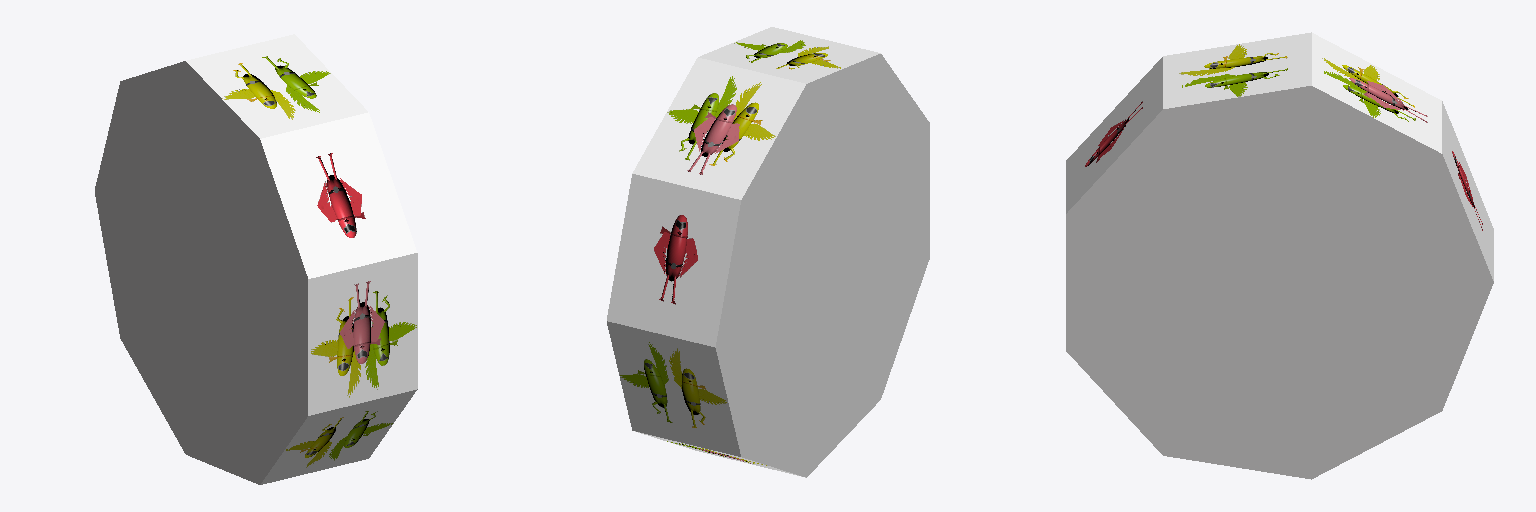
The picture shows the model from 3 angles: view 1: azimuth 30°, elevation 25°; view 2: azimuth 150°, elevation 25°; view 3: azimuth 270°, elevation 25°; orthographic projection.
Visible parts, largest first — view 1: pCylinder2; view 2: pCylinder2; view 3: pCylinder2.
Boxes of the visible parts, box(x1,y1,x2,y2) form: pCylinder2: box(95, 34, 417, 484); pCylinder2: box(607, 27, 929, 477); pCylinder2: box(1066, 32, 1493, 479).
Size of the model in its own units: 0.3843 by 1.33 by 1.31.
Materials: 4 (4 with a texture image).